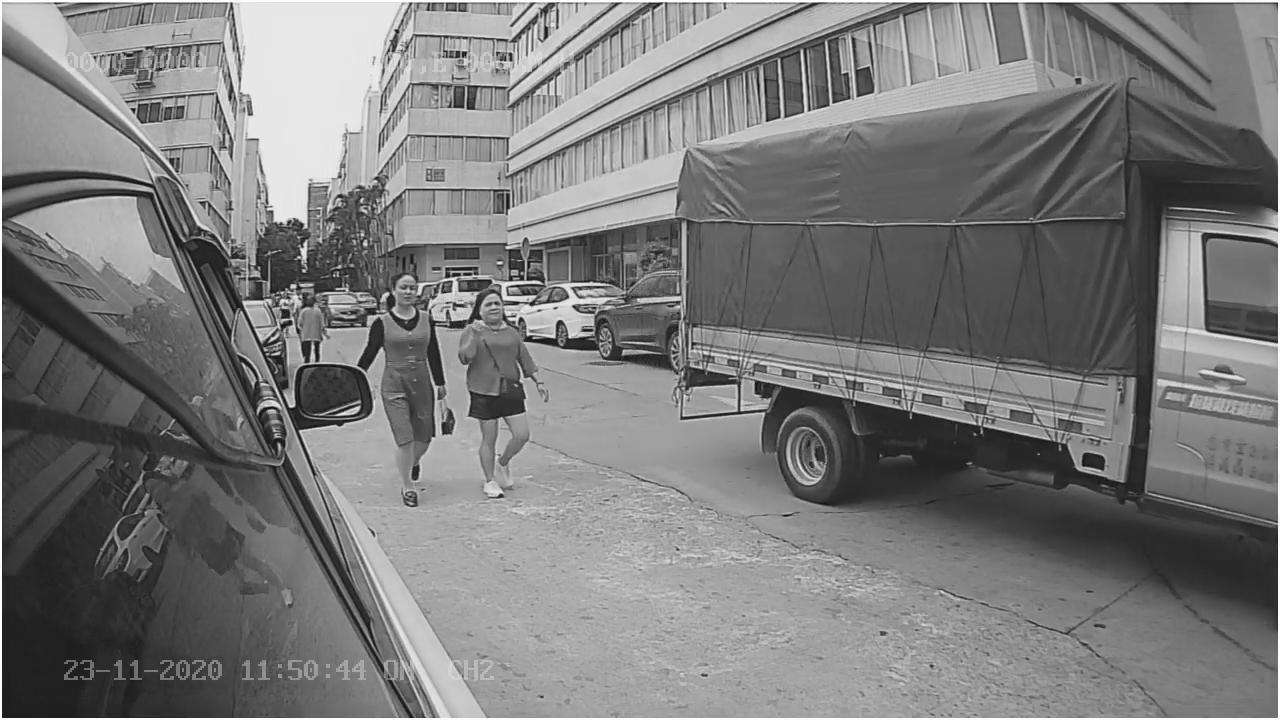person: (367, 246, 451, 508), (460, 278, 550, 497)
